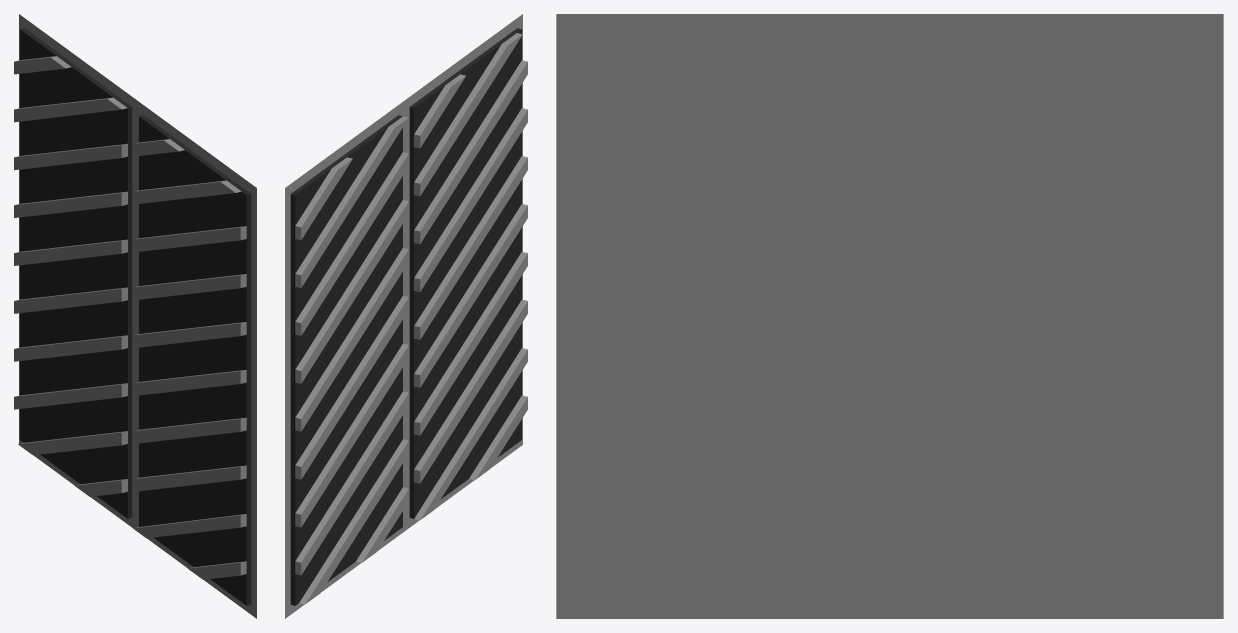
Rendered from Wall_28.FBX.
3 renders of one model, left to right at view 1: azimuth 30°, elevation 25°; view 2: azimuth 150°, elevation 25°; view 3: azimuth 270°, elevation 25°, orthographic. The views are drawn at different scales.
Parts seen in each view (by area): view 1: Wall_28_LOD0; view 2: Wall_28_LOD0; view 3: Wall_28_LOD0.
Boxes of the visible parts, x1,y1,x2,y2 form: Wall_28_LOD0: (14, 14, 256, 618); Wall_28_LOD0: (285, 14, 527, 618); Wall_28_LOD0: (556, 14, 1223, 618).
Size of what is drawn, in the model's own units: 4.66 by 180 by 180.
